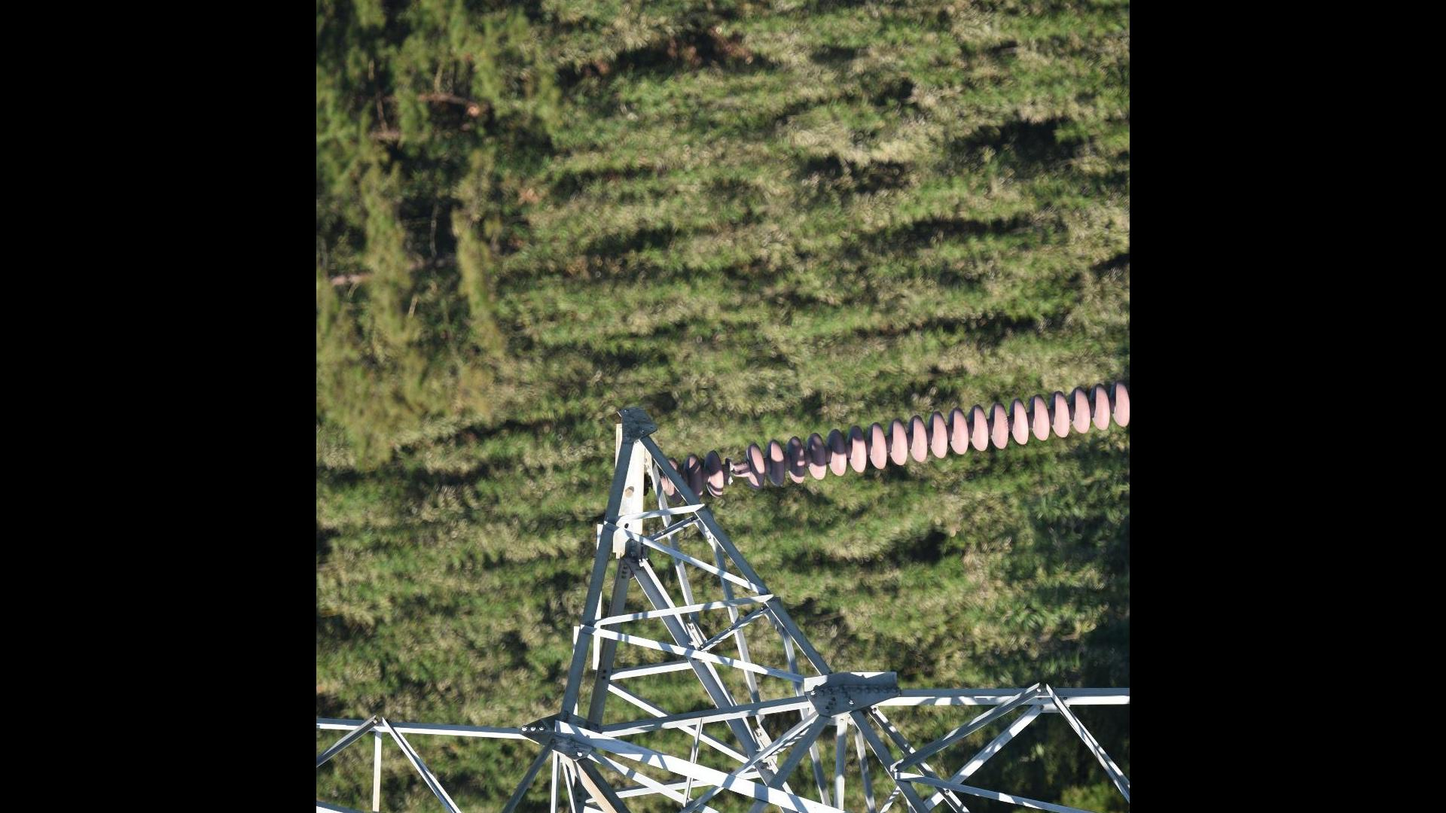insulator: (654, 379, 1130, 501)
insulator_stringdrop: (701, 440, 770, 499)
